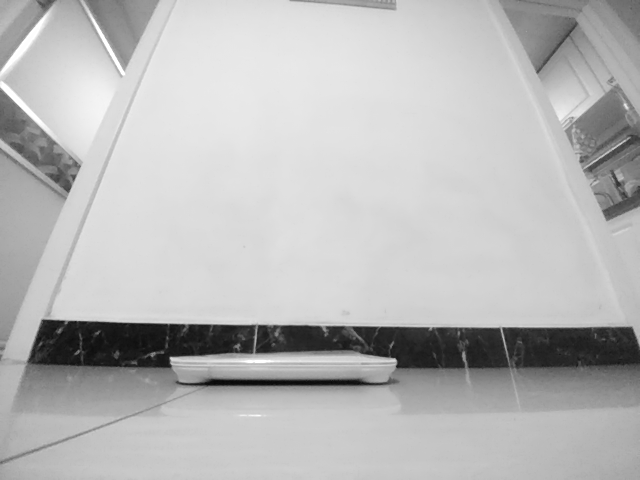scale: (168, 348, 399, 388)
